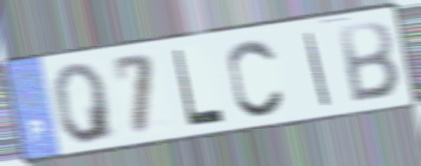7: (110, 49, 162, 140)
B: (336, 18, 403, 106)
C: (225, 37, 288, 120)
I: (302, 30, 333, 109)
L: (171, 46, 227, 129)
Q: (49, 59, 120, 147)
